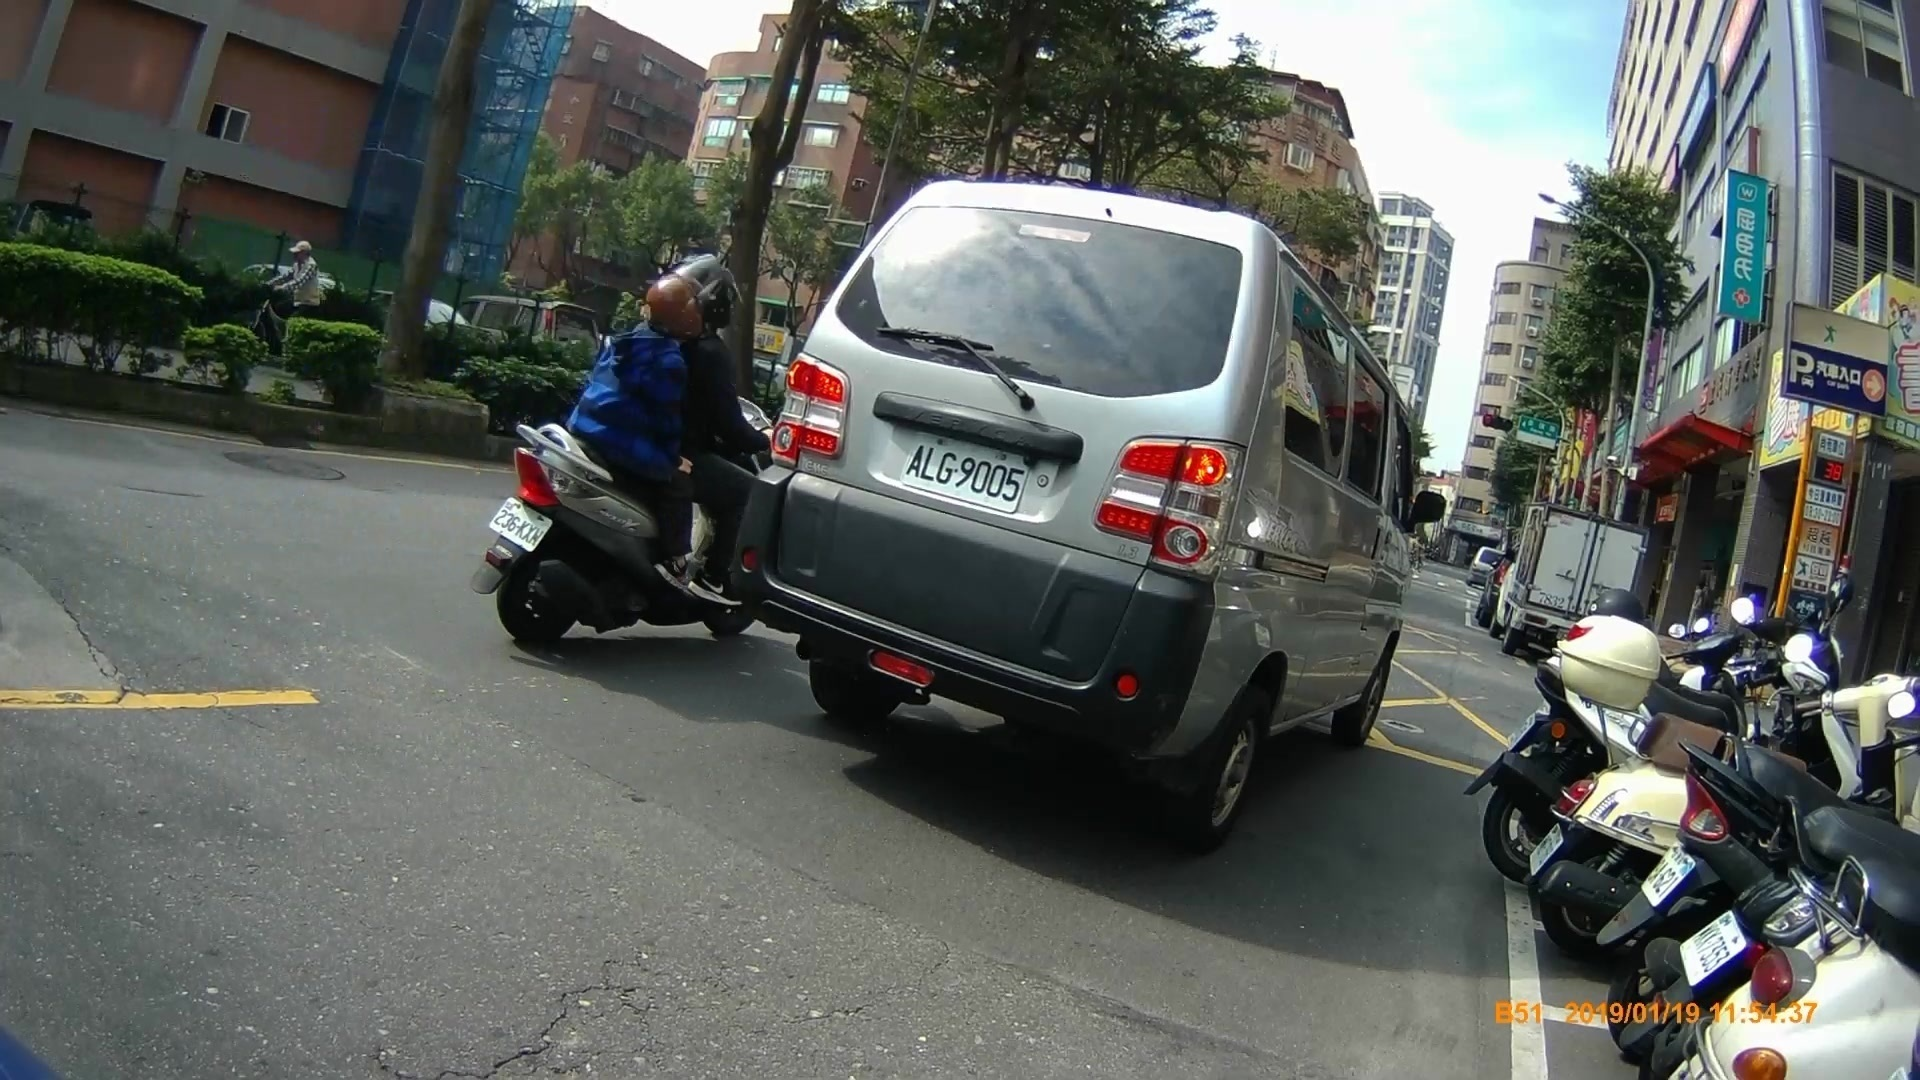License_plate: (897, 424, 1029, 517), (486, 493, 557, 556)
